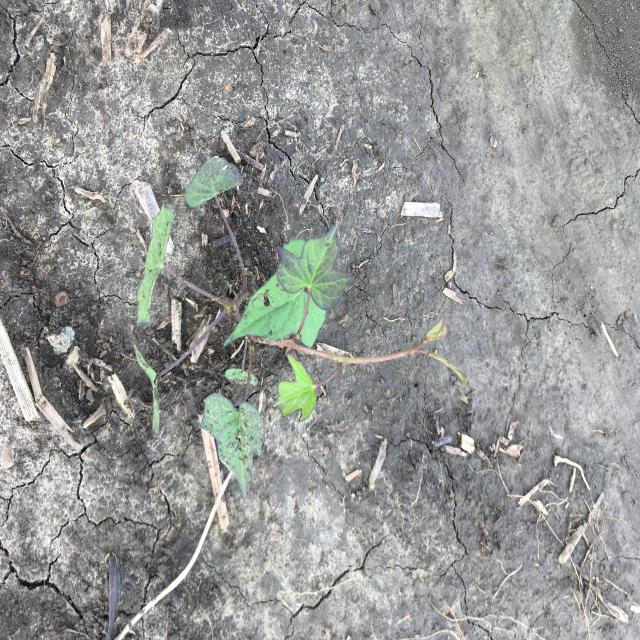MorningGlory: (131, 153, 472, 508)
